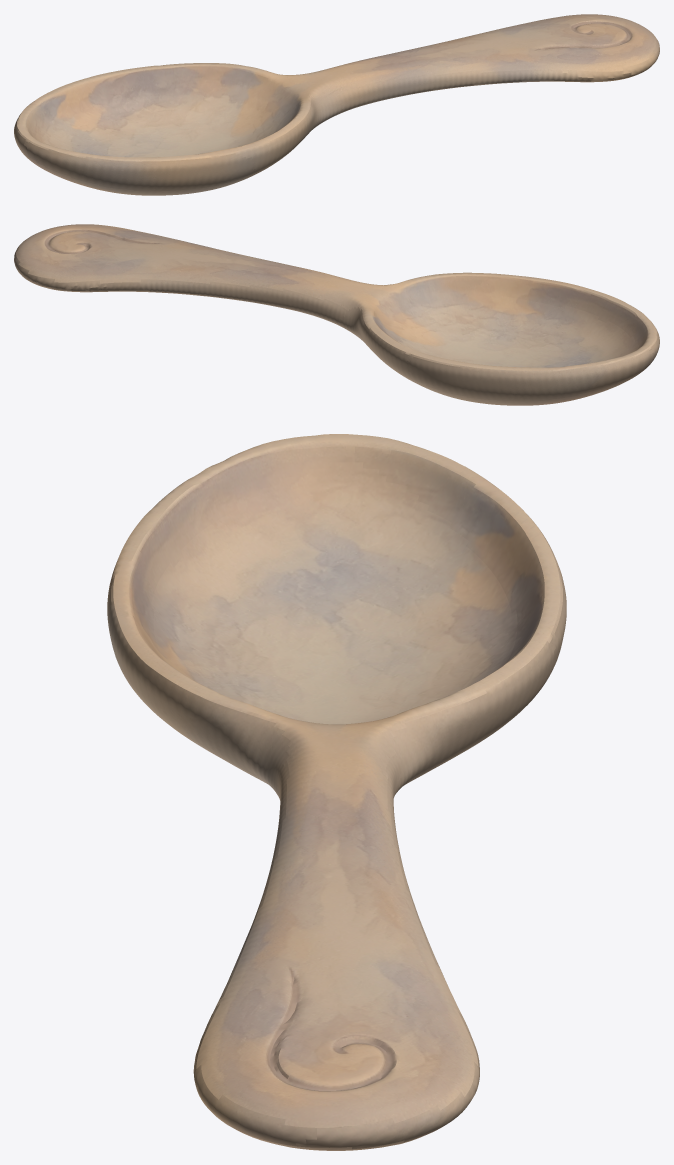
The model's file is silver_spoon.glb.
The picture shows the model from 3 angles, top to bottom: view 1: azimuth 30°, elevation 25°; view 2: azimuth 150°, elevation 25°; view 3: azimuth 270°, elevation 25°; orthographic projection. The views are drawn at different scales.
Visible parts, largest first — view 1: Mesh0; view 2: Mesh0; view 3: Mesh0.
Boxes of the visible parts, x1,y1,x2,y2 form: Mesh0: [14, 14, 659, 195]; Mesh0: [14, 224, 659, 405]; Mesh0: [107, 434, 566, 1150].
Size of the model in its own units: 1.9 by 0.168 by 0.6037.
Materials: 1 (1 with a texture image).
